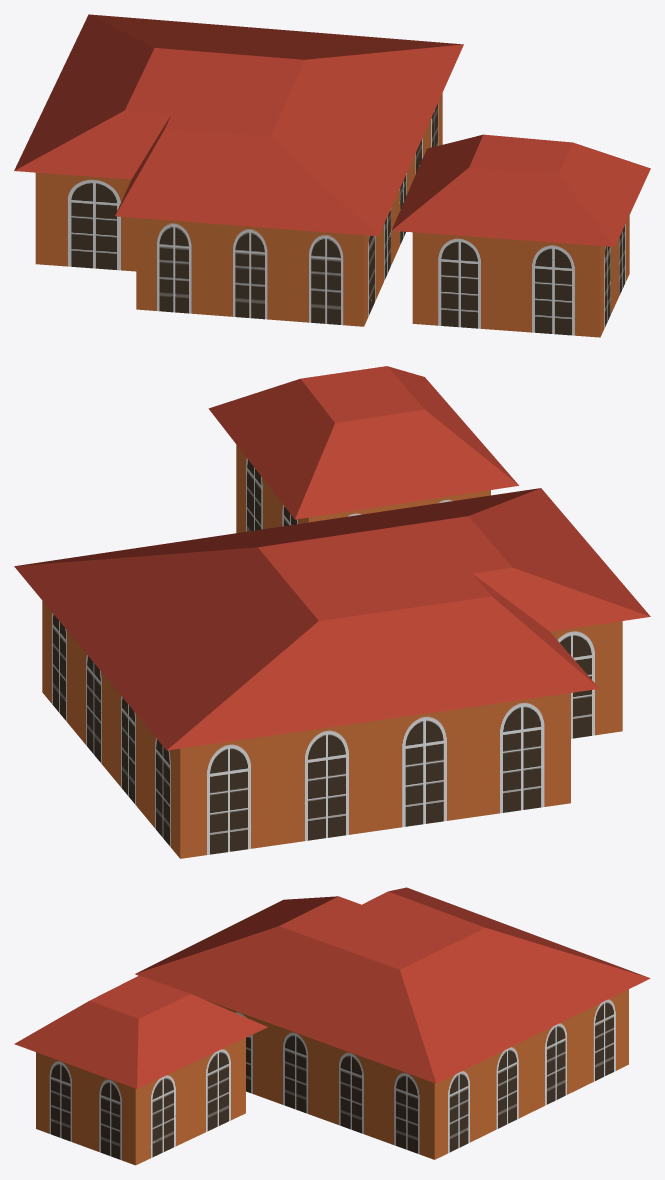
File: ckiosk_b.glb
3 renders of one model, top to bottom at view 1: azimuth 30°, elevation 25°; view 2: azimuth 150°, elevation 25°; view 3: azimuth 270°, elevation 25°, orthographic. The views are drawn at different scales.
Visible parts, largest first — view 1: ckiosk_b_lod0; view 2: ckiosk_b_lod0; view 3: ckiosk_b_lod0.
Boxes of the visible parts, left/top/right/bottom form: ckiosk_b_lod0: left=14, top=14, right=650, bottom=337; ckiosk_b_lod0: left=14, top=366, right=650, bottom=858; ckiosk_b_lod0: left=14, top=887, right=650, bottom=1165.
Size of what is drawn, in the model's own units: 18.2 by 5.2 by 24.28.
Materials: 3 (1 with a texture image).
